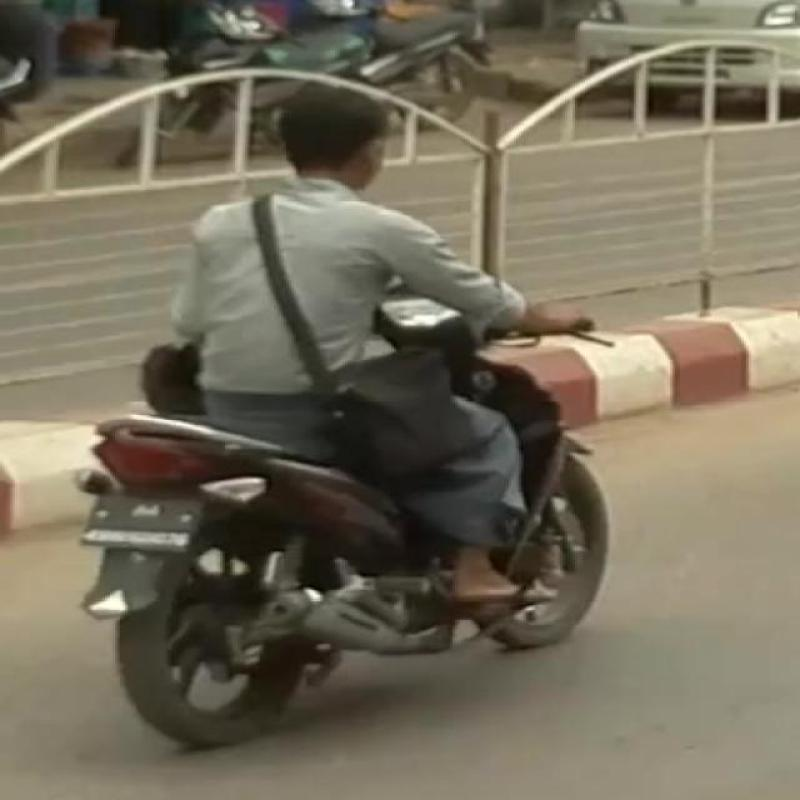nohelmet: (262, 70, 442, 206)
